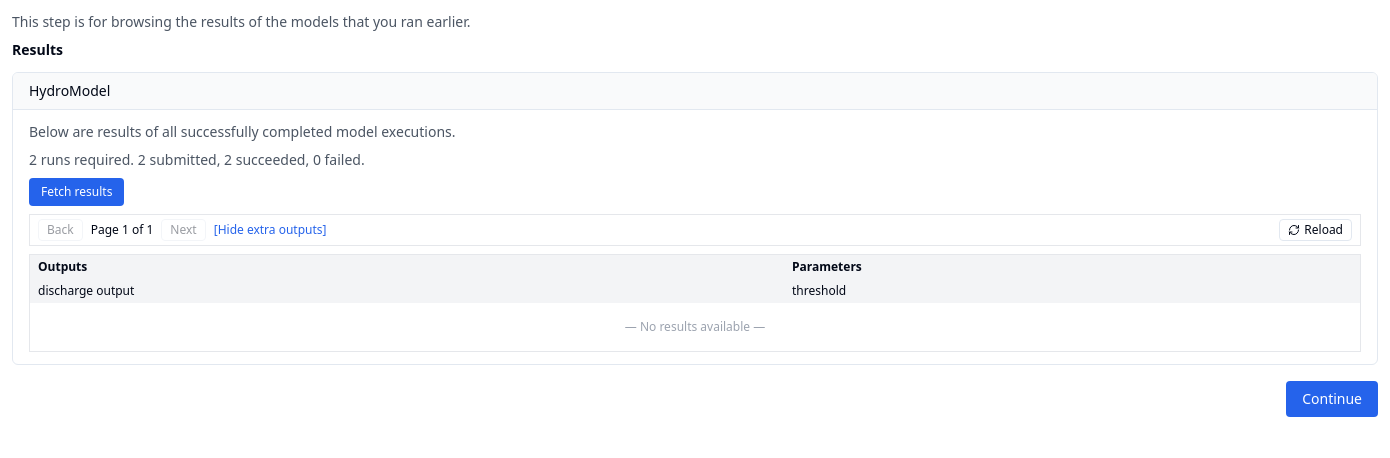
Test: MintResults › does not reload the executions when publishing fails
Click the button with test id "fetch-results-model-1" at x=77, y=192, box [29,178,124,206]
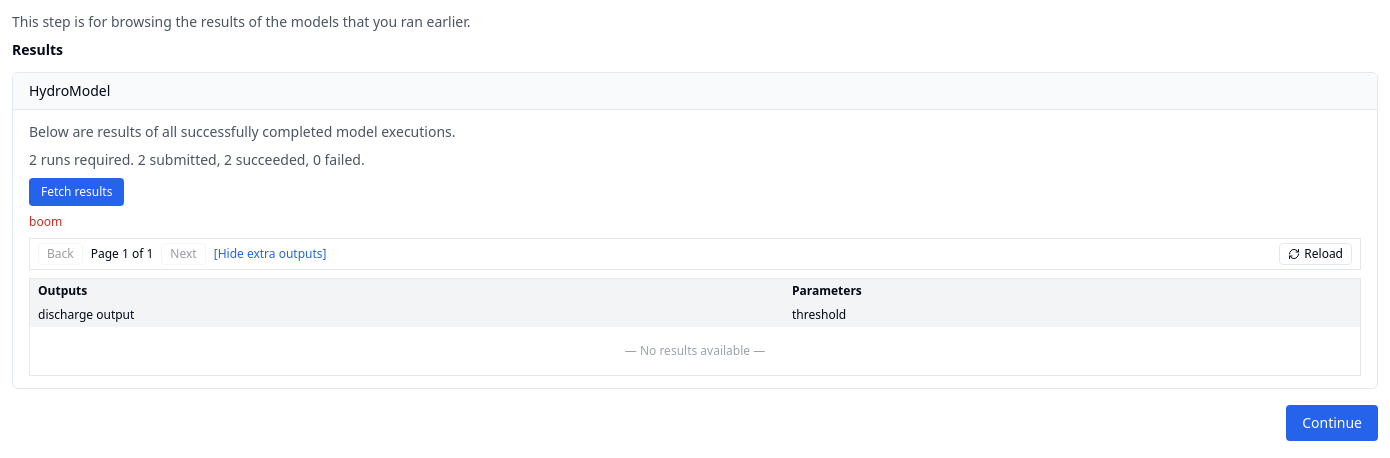
Now the message "boom" is shown, box [29,213,62,230]
